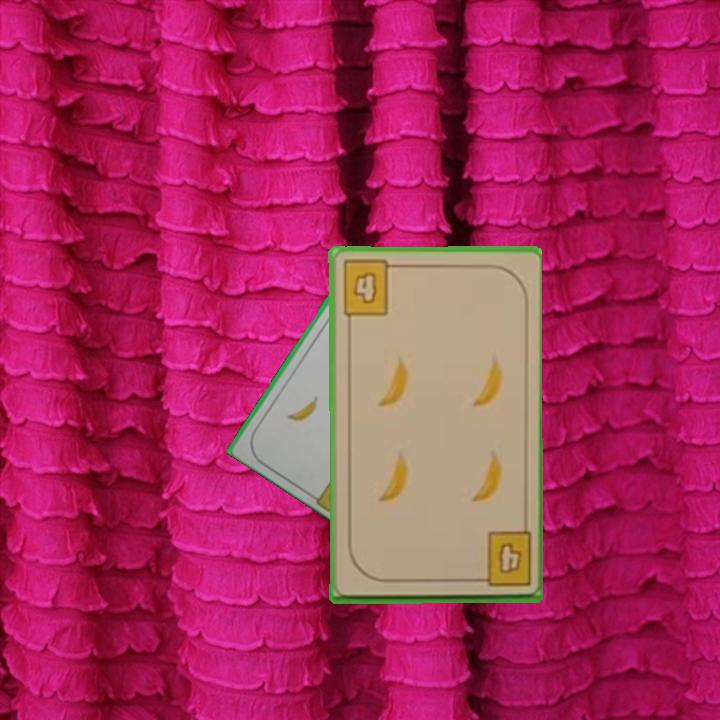4b: (468, 529, 533, 590), (339, 257, 401, 318)
